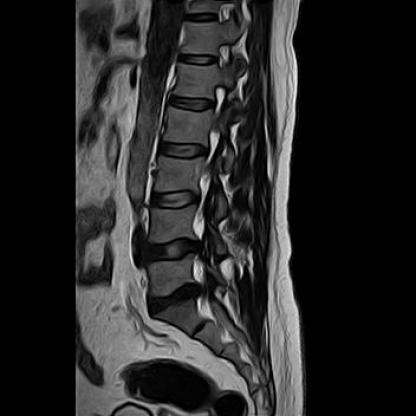Disc Bulgerotation: (142, 235, 202, 269), (140, 283, 205, 311)
